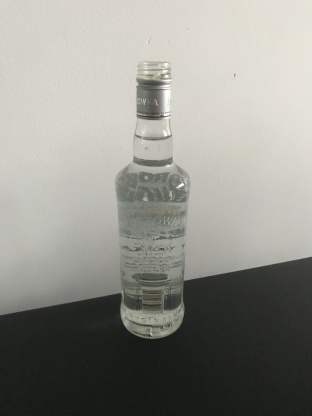nakretka: (134, 58, 173, 121)
